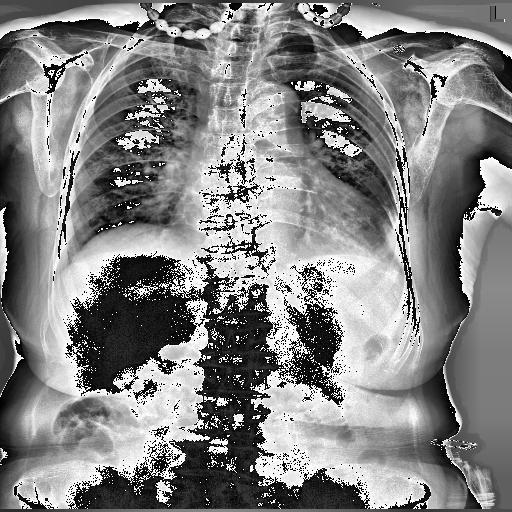0- Aortic enlargement: (236, 80, 308, 148), (247, 82, 302, 156), (247, 82, 302, 136)
11- Pleural thickening: (286, 26, 318, 38)
3- Cardiomegaly: (162, 174, 394, 250), (171, 192, 377, 266), (174, 196, 384, 255)
